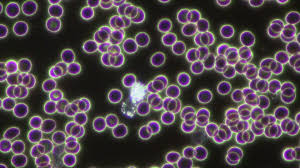Malaria: (105, 88, 124, 106), (148, 52, 168, 68), (121, 39, 139, 54), (176, 8, 192, 24), (219, 23, 235, 39), (240, 29, 255, 46), (60, 48, 76, 63), (28, 129, 44, 144), (245, 92, 261, 107), (224, 153, 241, 167), (136, 33, 151, 48), (197, 88, 212, 103), (121, 74, 137, 88), (113, 125, 128, 139), (217, 80, 231, 95), (166, 149, 180, 163), (93, 117, 106, 132), (177, 73, 191, 86), (42, 79, 56, 92), (44, 100, 58, 113), (29, 115, 42, 129), (148, 121, 161, 134), (139, 126, 151, 140), (106, 115, 118, 128), (69, 63, 81, 75)
